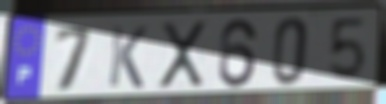0: (272, 15, 315, 89)
5: (327, 15, 368, 84)
6: (216, 17, 259, 91)
7: (52, 25, 96, 94)
K: (106, 24, 150, 91)
X: (158, 19, 209, 92)
